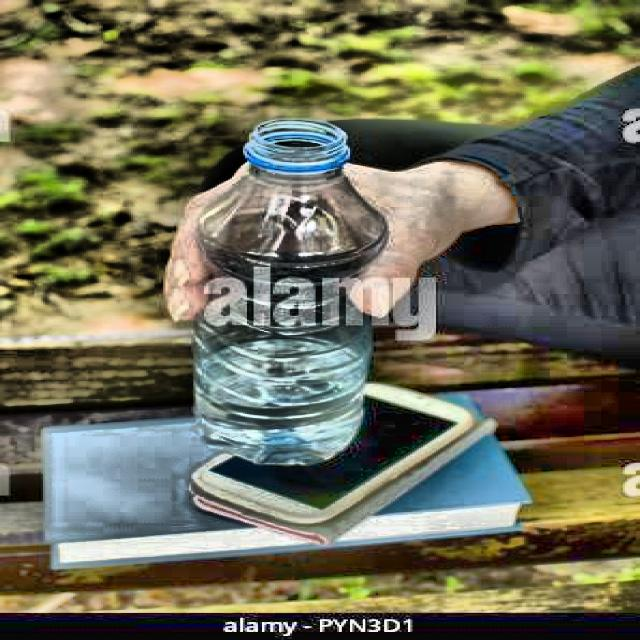Bottles: (167, 110, 381, 470)
